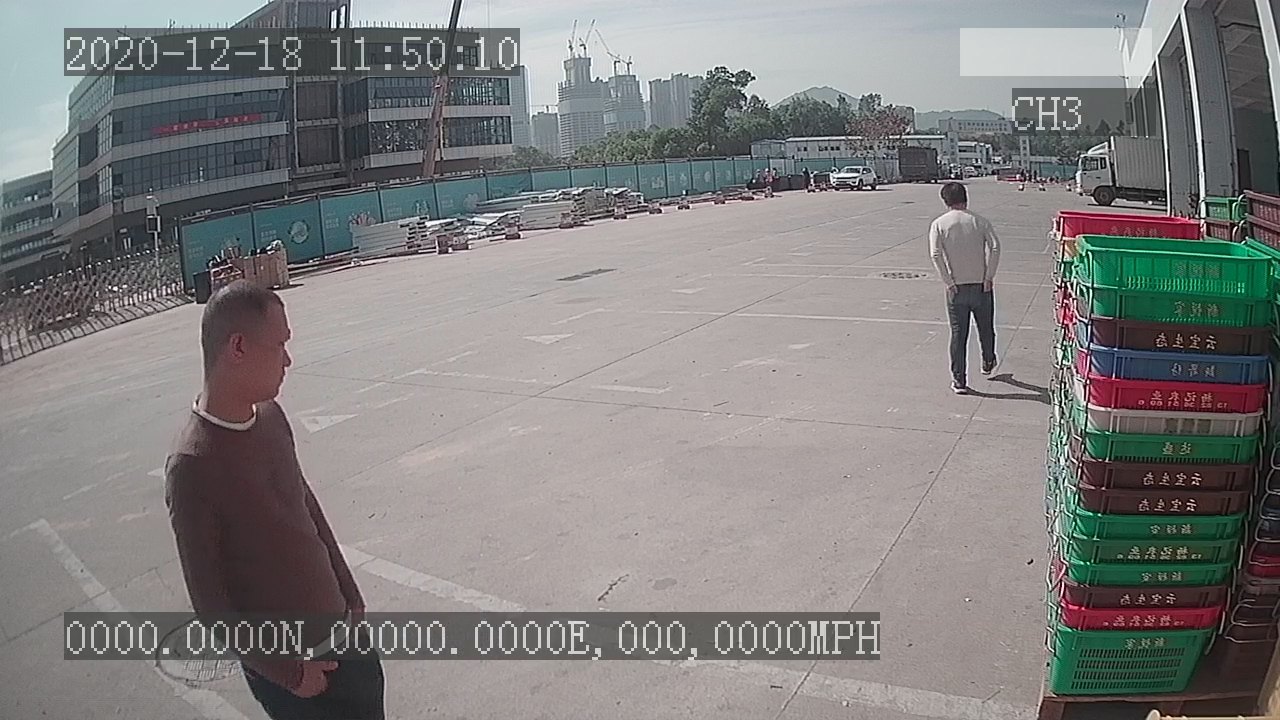person: (922, 179, 1011, 395)
